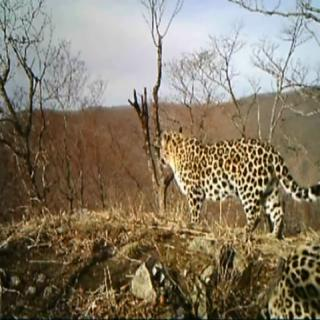Leopard: (156, 128, 320, 242)
